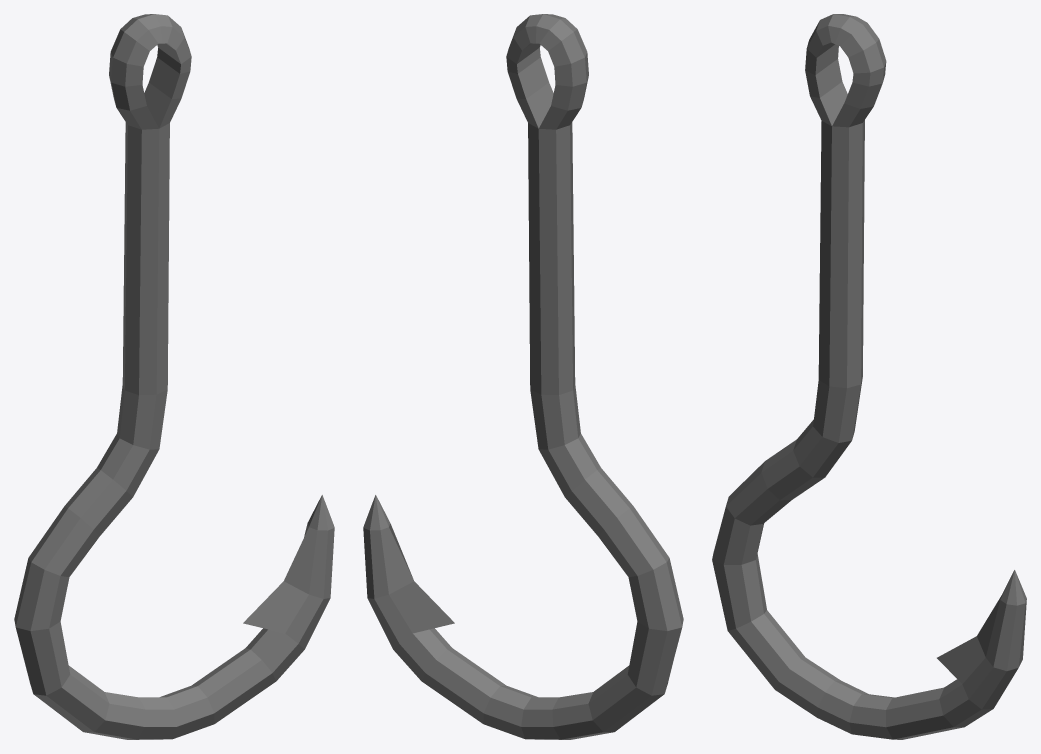
The model's file is jamikoukku1.fbx.
3 views of the same model, side by side, from view 1: azimuth 30°, elevation 25°; view 2: azimuth 150°, elevation 25°; view 3: azimuth 330°, elevation 25° (orthographic).
Visible parts, largest first — view 1: Cube; view 2: Cube; view 3: Cube.
Boxes of the visible parts, x1,y1,x2,y2 form: Cube: [14, 14, 334, 739]; Cube: [363, 14, 683, 739]; Cube: [712, 14, 1026, 739].
Bounding box in the file's own units: 16 × 2 × 35.03.
